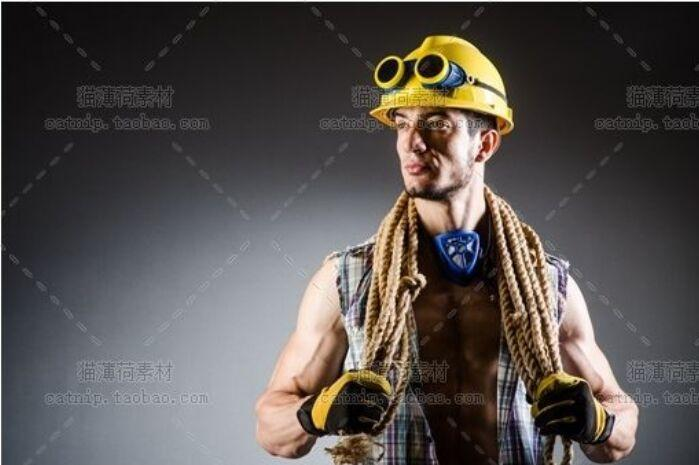helmet: (369, 34, 520, 134)
no_wear: (333, 247, 575, 465)
